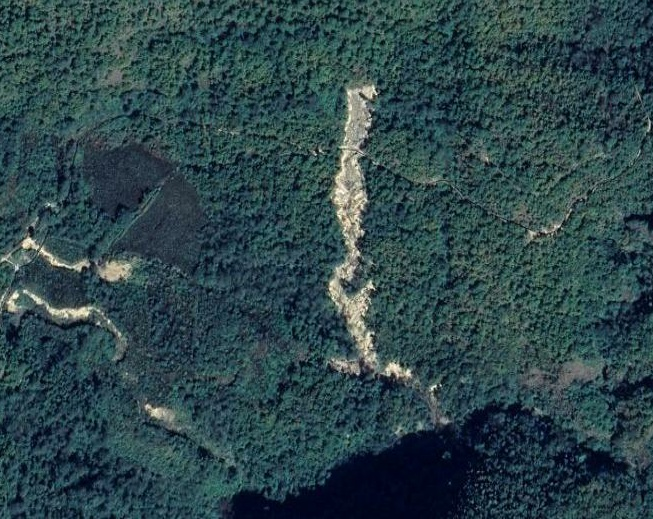slope: (323, 79, 451, 429), (90, 253, 136, 285)
